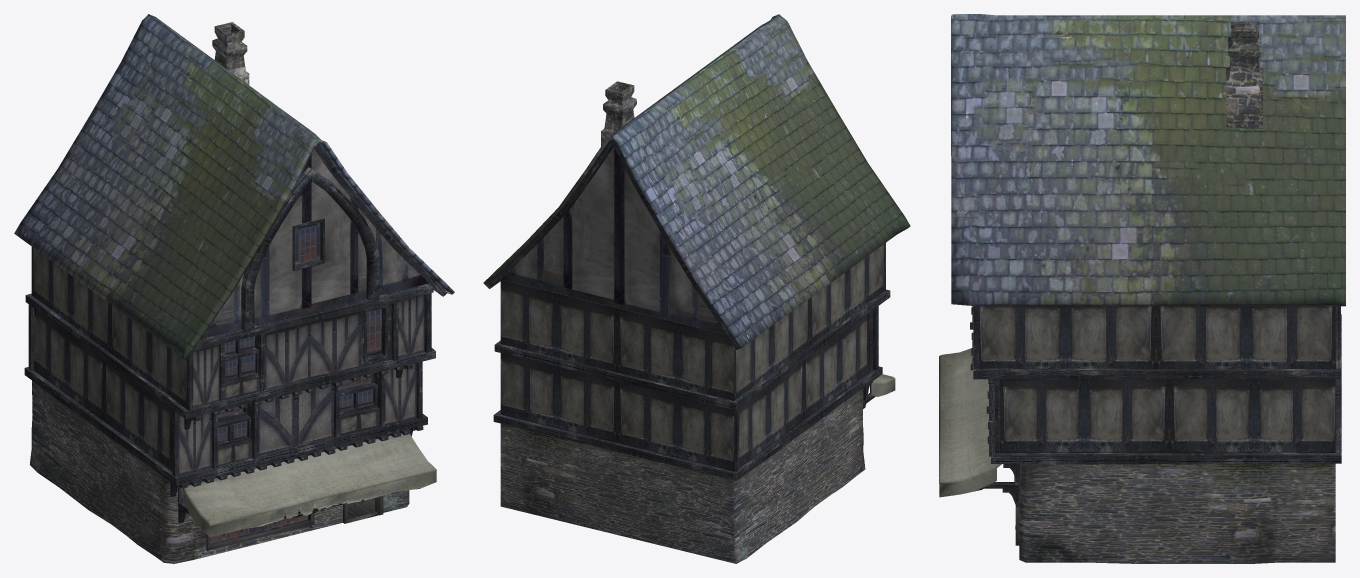
The model's file is medhouse23.fbx.
3 views of the same model, side by side, from view 1: azimuth 30°, elevation 25°; view 2: azimuth 150°, elevation 25°; view 3: azimuth 270°, elevation 25° (orthographic). The views are drawn at different scales.
Parts seen in each view (by area): view 1: Medhouse23; view 2: Medhouse23; view 3: Medhouse23.
Boxes of the visible parts, <box> form: Medhouse23: <box>14,14,454,563</box>; Medhouse23: <box>483,14,910,563</box>; Medhouse23: <box>939,14,1345,563</box>.
Bounding box in the file's own units: 1201 × 1791 × 1349.
